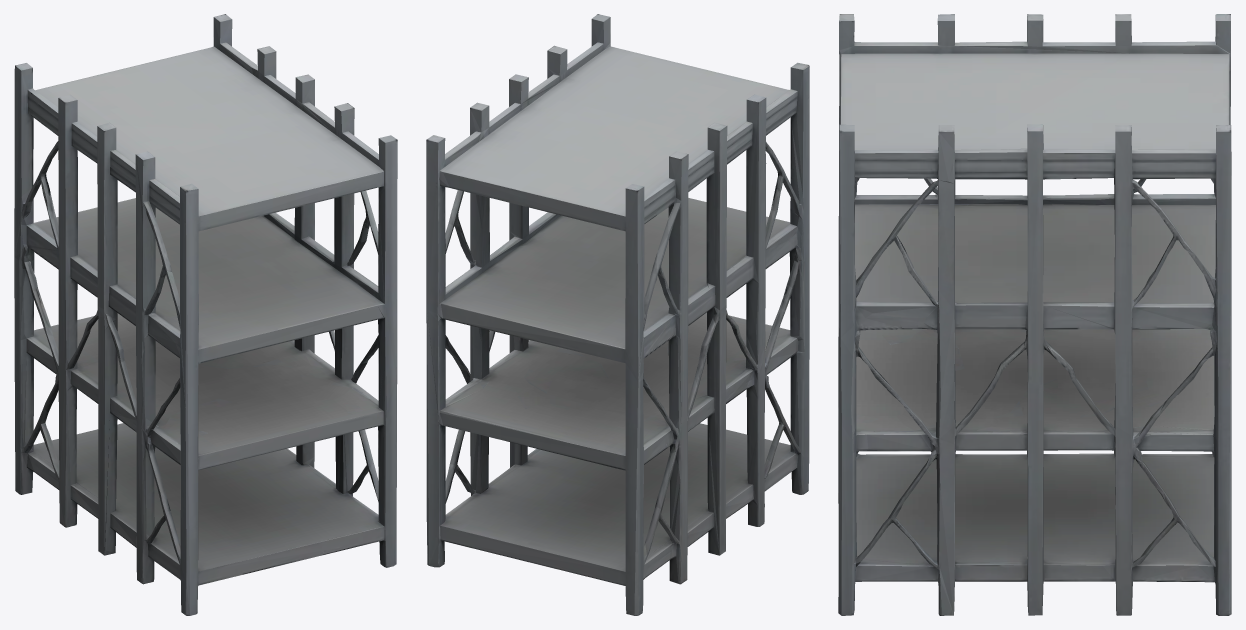
The model's file is metal-structures.glb.
3 renders of one model, left to right at view 1: azimuth 30°, elevation 25°; view 2: azimuth 150°, elevation 25°; view 3: azimuth 270°, elevation 25°, orthographic. The views are drawn at different scales.
Visible parts, largest first — view 1: geometry_0; view 2: geometry_0; view 3: geometry_0.
Part boxes in pixels (bbox=[...]): geometry_0: bbox=[14, 14, 397, 615]; geometry_0: bbox=[426, 14, 809, 615]; geometry_0: bbox=[838, 14, 1231, 615].
Bounding box in the file's own units: 0.5224 × 1 × 0.7355.
1 material, 1 textured.
